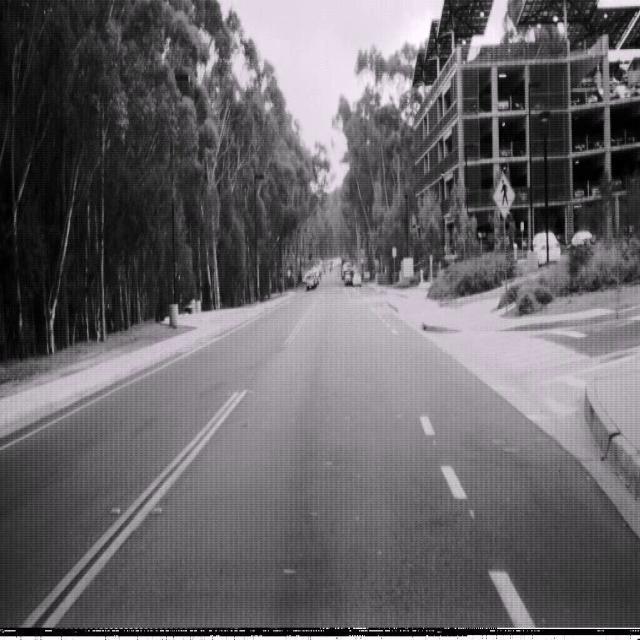pedestrianCrossing: (492, 170, 516, 218)
